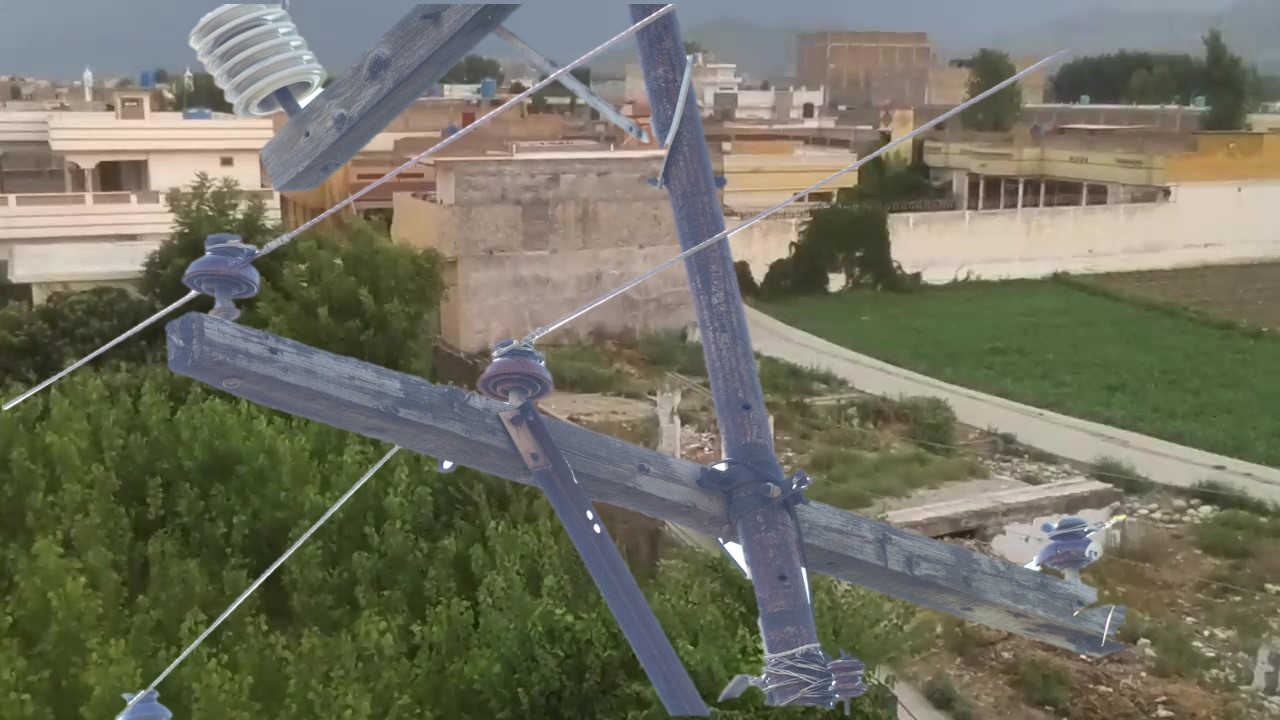defect_pin: (1029, 511, 1115, 572)
insulator_pin: (179, 226, 272, 305), (478, 335, 562, 410)
